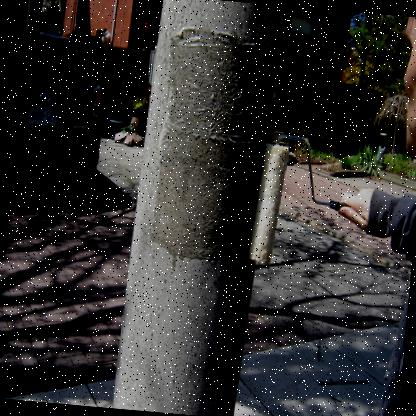Car: (0, 28, 108, 208)
